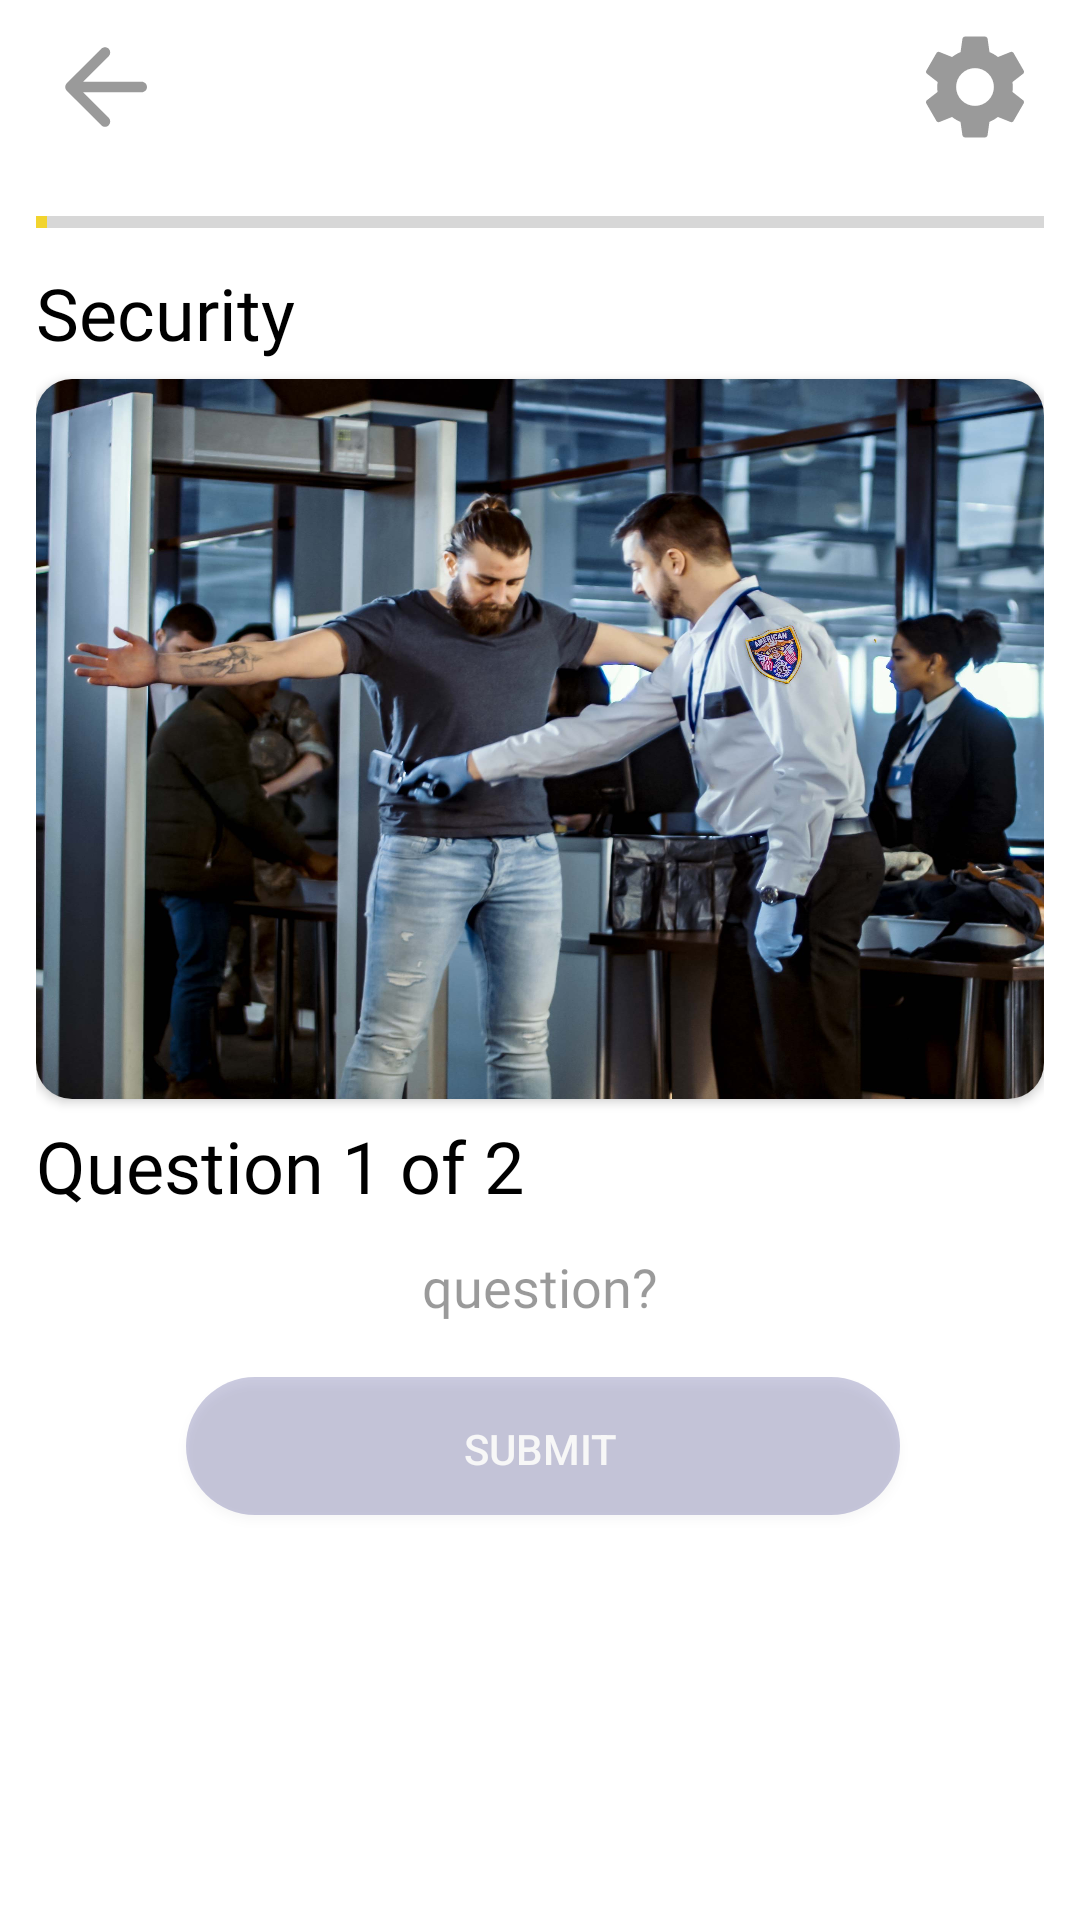

Icons on this 1080px x 1920px Android screen, each with the point to tap as (x=x, y=y):
back: (x=106, y=87)
settings: (x=975, y=87)
